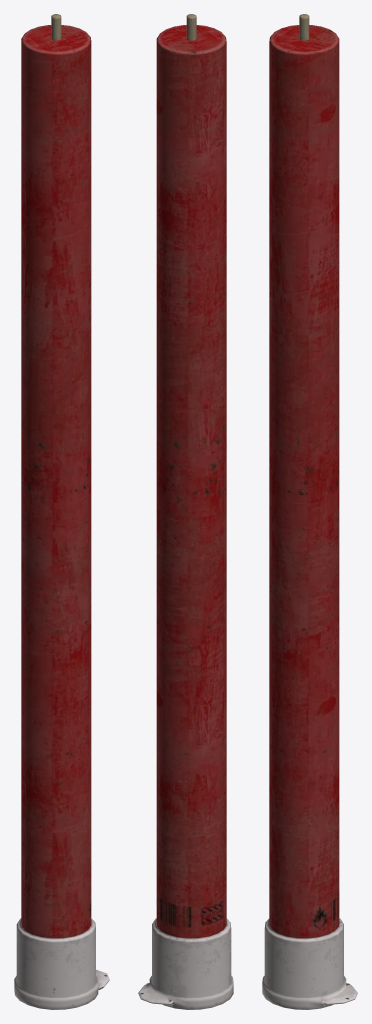
Rendered from road_flare.glb.
3 renders of one model, left to right at view 1: azimuth 30°, elevation 25°; view 2: azimuth 210°, elevation 25°; view 3: azimuth 330°, elevation 25°, orthographic.
Parts seen in each view (by area): view 1: road_flare; view 2: road_flare; view 3: road_flare.
Part boxes in pixels (box(x1,y1,x2,y2)): road_flare: box(14, 14, 109, 1009); road_flare: box(138, 14, 233, 1009); road_flare: box(262, 14, 357, 1009).
Bounding box in the file's own units: 0.0281 × 0.3 × 0.0235.
1 material, 1 textured.
